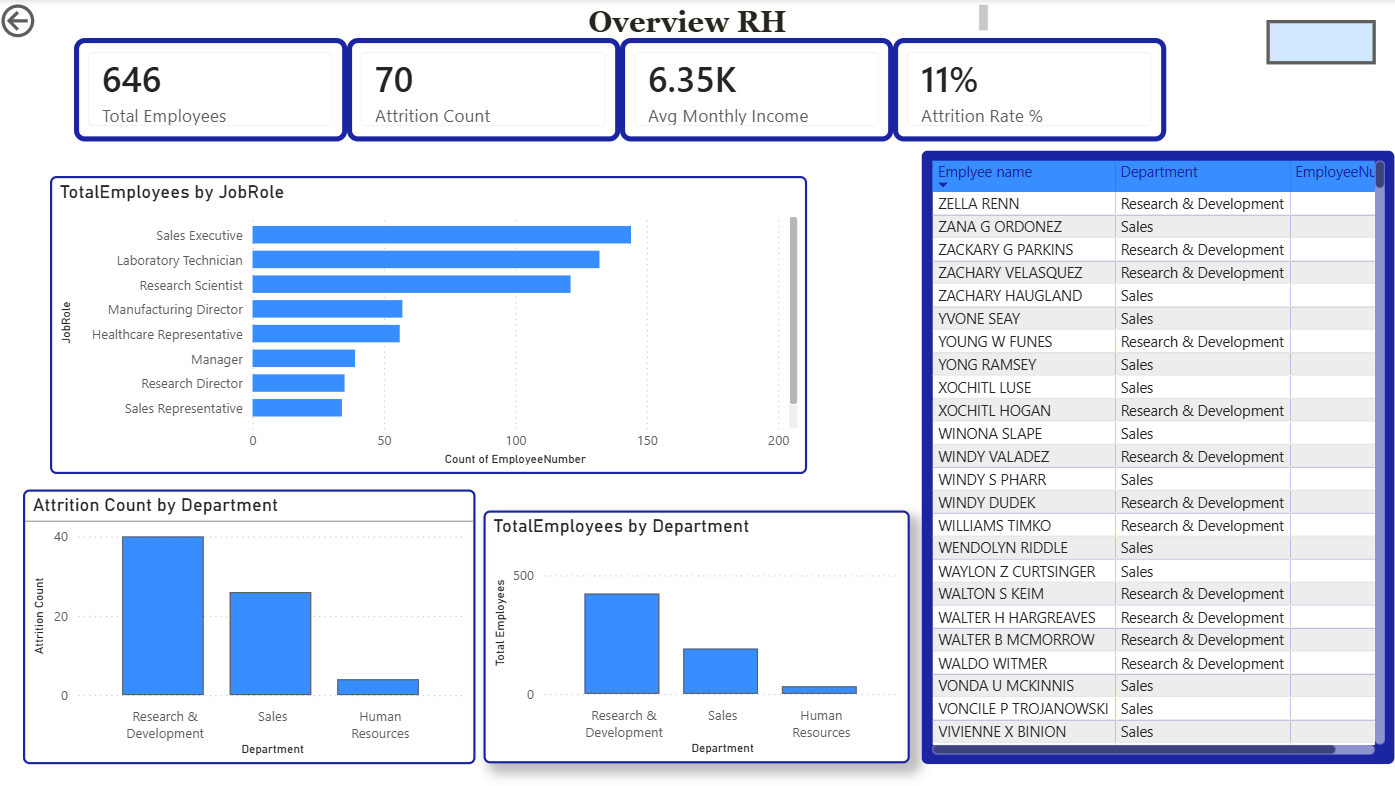

The page's visual inventory and layout, read from the dashboard file:
{"tool":"powerbi","page":{"name":"Overview RH","canvas":[1280,720],"ordinal":1},"visuals":[{"type":"textbox","box":[355,0,556.7,36.7],"z":0},{"type":"cardVisual","fields":{"Data":["HR Analytics Data.Total Employees"]},"box":[70.8,36.1,250,94.4],"z":1000},{"type":"cardVisual","fields":{"Data":["HR Analytics Data.Attrition Count"]},"box":[320.8,36.1,250,94.4],"z":2000},{"type":"clusteredBarChart","title":"TotalEmployees by JobRole","fields":{"Y":["CountNonNull(HR Analytics Data.EmployeeNumber)"],"Category":["HR Analytics Data.JobRole"]},"box":[50,161.4,692.9,272.9],"z":3000},{"type":"cardVisual","fields":{"Data":["HR Analytics Data.Avg Monthly Income"]},"box":[570.8,36.1,250,94.4],"z":4000},{"type":"clusteredColumnChart","title":"TotalEmployees by Department","fields":{"Category":["HR Analytics Data.Department"],"Y":["HR Analytics Data.Total Employees"]},"box":[445.7,468.6,390,231.4],"z":5000},{"type":"clusteredColumnChart","fields":{"Category":["HR Analytics Data.Department"],"Y":["HR Analytics Data.Attrition Count"]},"box":[24.3,448.6,414.3,251.4],"z":6000},{"type":"cardVisual","fields":{"Data":["HR Analytics Data.Attrition Rate %"]},"box":[820.8,36.1,250,94.4],"z":7000},{"type":"actionButton","title":"home","box":[1196.9,653.1,65.6,46.9],"z":8000},{"type":"tableEx","fields":{"Values":["HR employee data.Emplyee name","HR Analytics Data.Department","HR employee data.EmployeeNumber"]},"box":[847.1,138.6,432.9,561.4],"z":9000},{"type":"actionButton","box":[1162.5,18.8,100,40.6],"z":10000},{"type":"actionButton","box":[0,0,100,40],"z":12000}]}

Visuals, with their boxes in screenshot pixels (x1, y1, x2, y2), scaled from the page's 1280x720 canvas onto the 1395x786 screenshot:
textbox: region(387, 0, 994, 40)
cardVisual - HR Analytics Data.Total Employees: region(77, 39, 350, 142)
cardVisual - HR Analytics Data.Attrition Count: region(350, 39, 622, 142)
"TotalEmployees by JobRole" clusteredBarChart: region(54, 176, 810, 474)
cardVisual - HR Analytics Data.Avg Monthly Income: region(622, 39, 895, 142)
"TotalEmployees by Department" clusteredColumnChart: region(486, 512, 911, 764)
clusteredColumnChart - HR Analytics Data.Department x HR Analytics Data.Attrition Count: region(26, 490, 478, 764)
cardVisual - HR Analytics Data.Attrition Rate %: region(895, 39, 1167, 142)
"home" actionButton: region(1304, 713, 1376, 764)
tableEx - HR employee data.Emplyee name x HR Analytics Data.Department: region(923, 151, 1394, 764)
actionButton: region(1267, 21, 1376, 65)
actionButton: region(0, 0, 109, 44)
